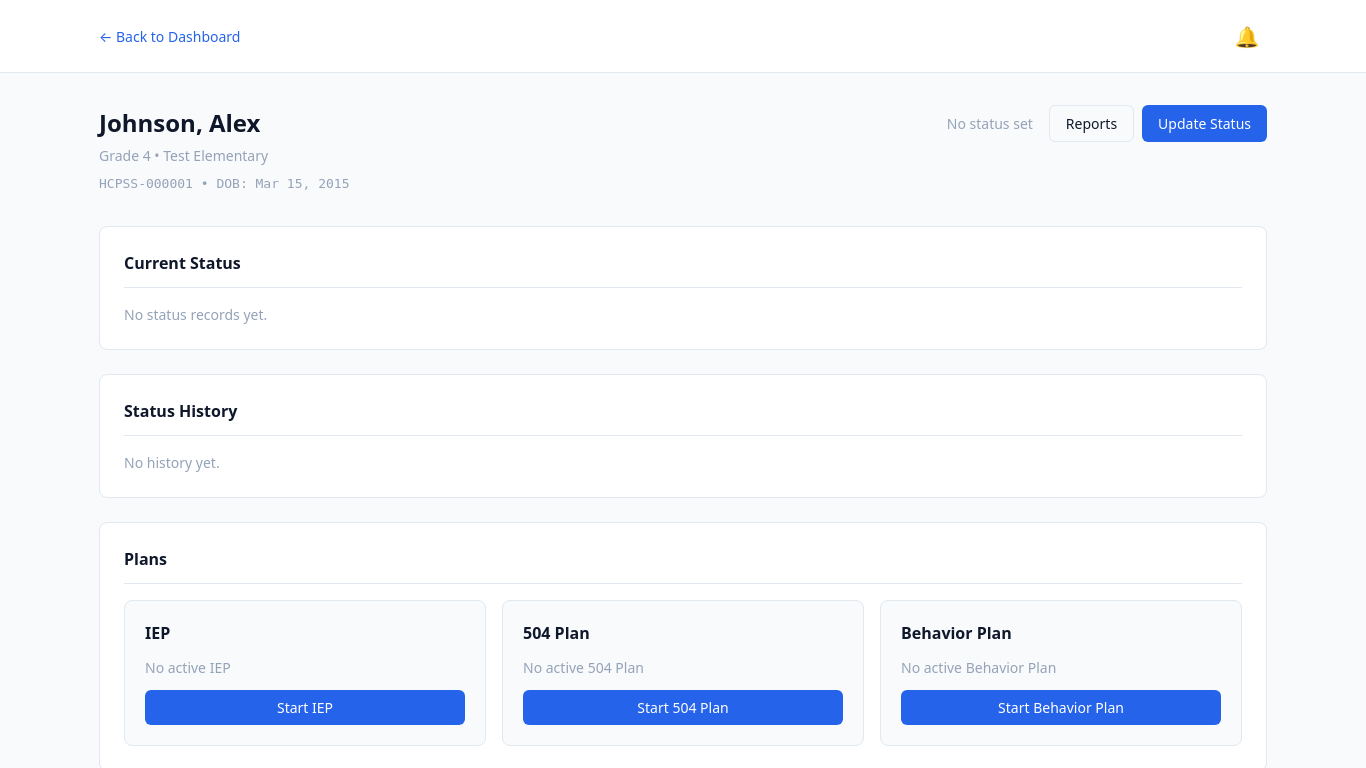
Student Detail Page - Status Update › opens status modal when Update Status is clicked
Click the button "Update Status" at (1205, 124), box [1142,105,1267,142]
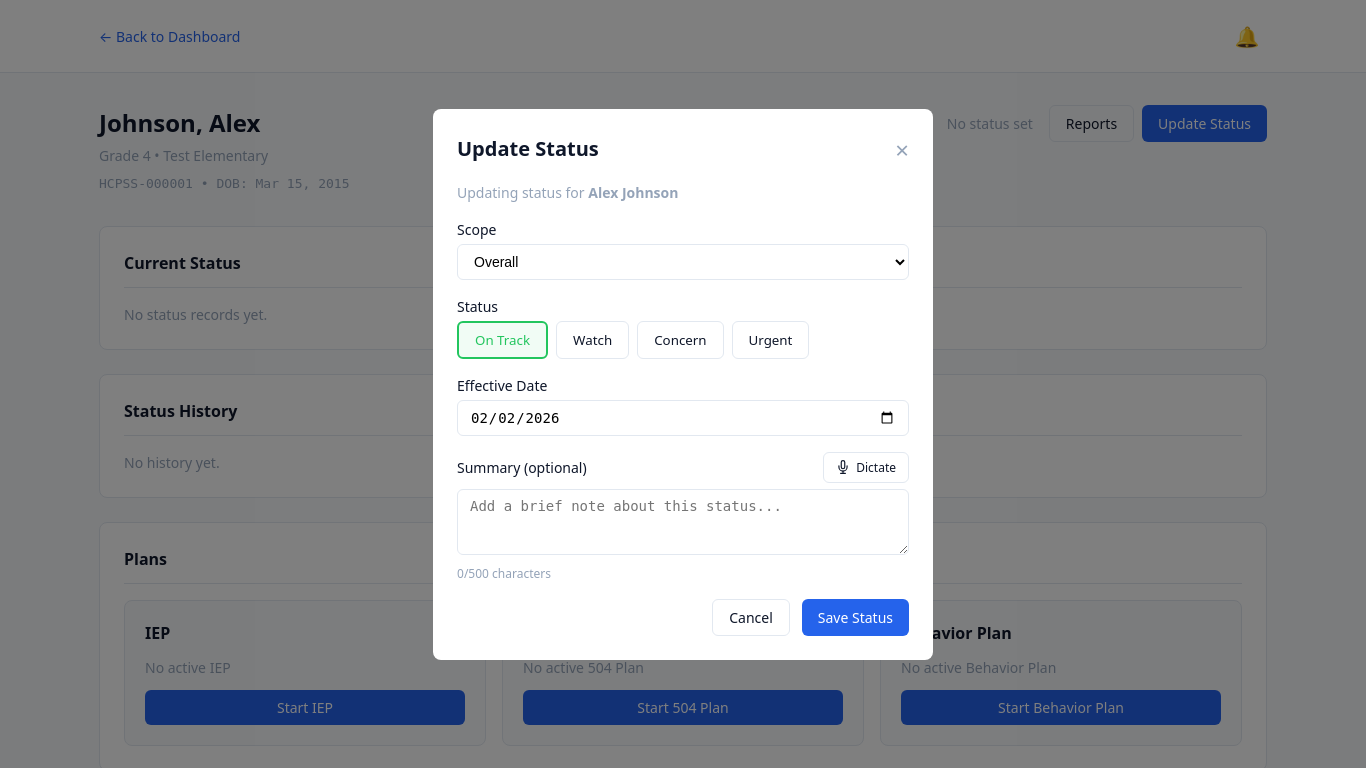
Expected: the text "Updating status for" is shown, [457,182,588,202]
